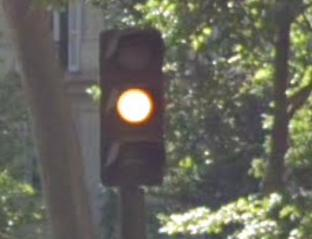yellow_light: (99, 28, 166, 187)
